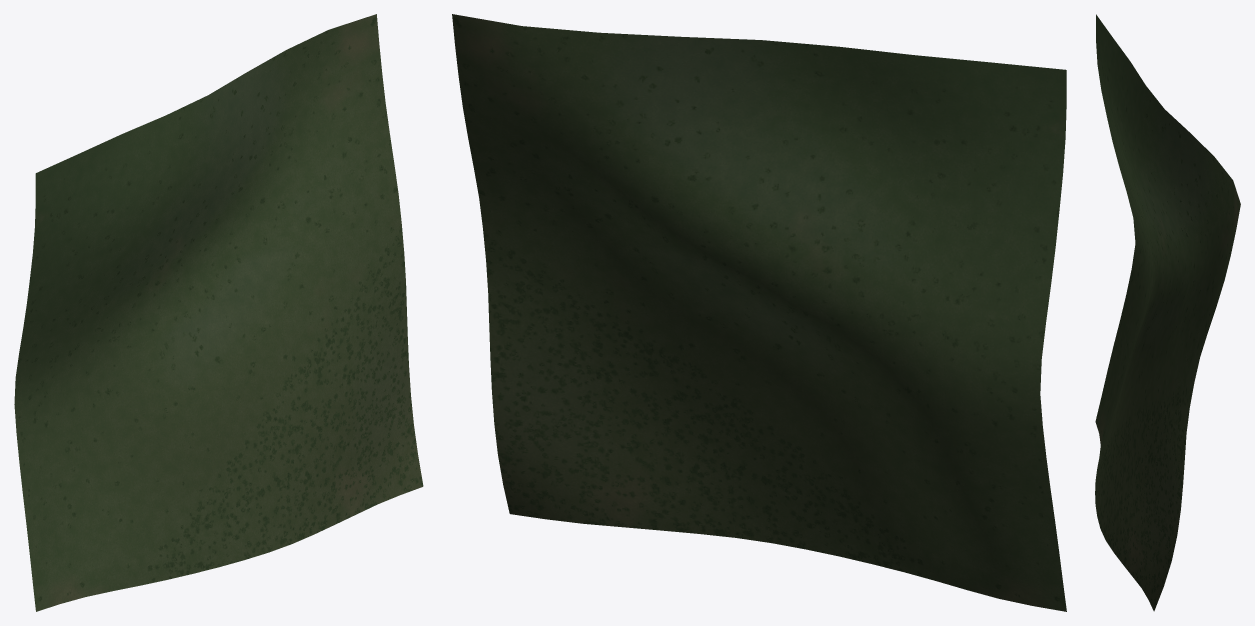
File: terrain_mid_01_07.obj
3 views of the same model, side by side, from view 1: azimuth 30°, elevation 25°; view 2: azimuth 150°, elevation 25°; view 3: azimuth 270°, elevation 25° (orthographic). The views are drawn at different scales.
Parts seen in each view (by area): view 1: terrain_mid_01_07; view 2: terrain_mid_01_07; view 3: terrain_mid_01_07.
Boxes of the visible parts, bbox=[...] form: terrain_mid_01_07: bbox=[14, 14, 423, 611]; terrain_mid_01_07: bbox=[452, 14, 1066, 611]; terrain_mid_01_07: bbox=[1095, 14, 1240, 611].
Size of the model in its own units: 320 by 320 by 104.
Materials: 1 (1 with a texture image).
